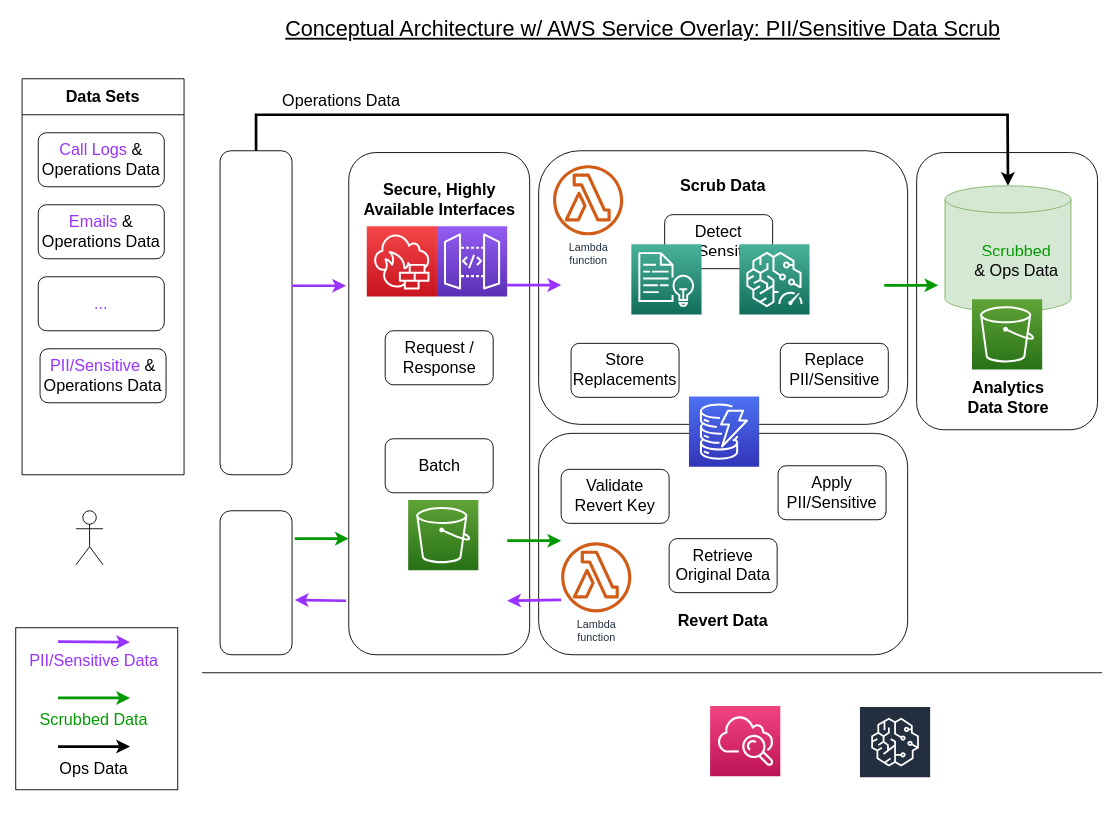
Some shapes in this 1119 by 824 pixel diagram are drawn without their labels. The shapes that lost their labels are listed below. From the top down, each one's centre as x and y in pixels, then its label:
pixel 471 261: Amazon API Gateway
pixel 255 312: ETL
pixel 723 431: Amazon DynamoDB
pixel 89 537: In-house BA
pixel 255 582: Debug, Reports, ...
pixel 744 740: Amazon CloudWatch
pixel 894 755: Amazon SageMaker
